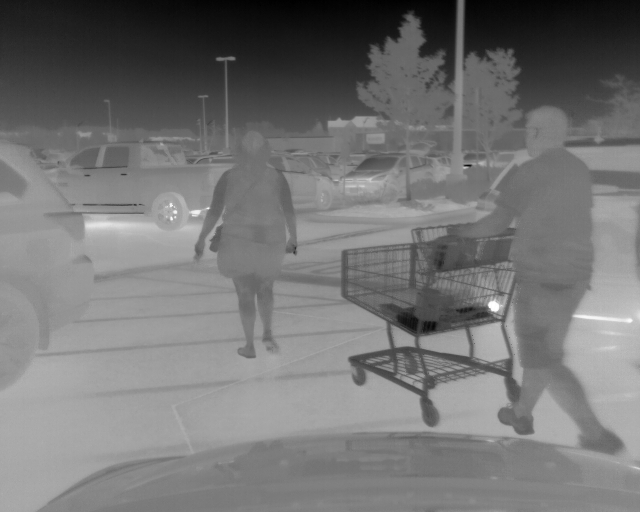car: (474, 135, 640, 353), (2, 139, 96, 383), (62, 142, 236, 225), (340, 150, 443, 200), (266, 153, 340, 210), (463, 150, 491, 172)
people: (448, 104, 626, 455), (193, 131, 298, 360)
